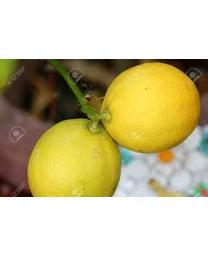lemon: (103, 61, 200, 154), (28, 118, 122, 196)
